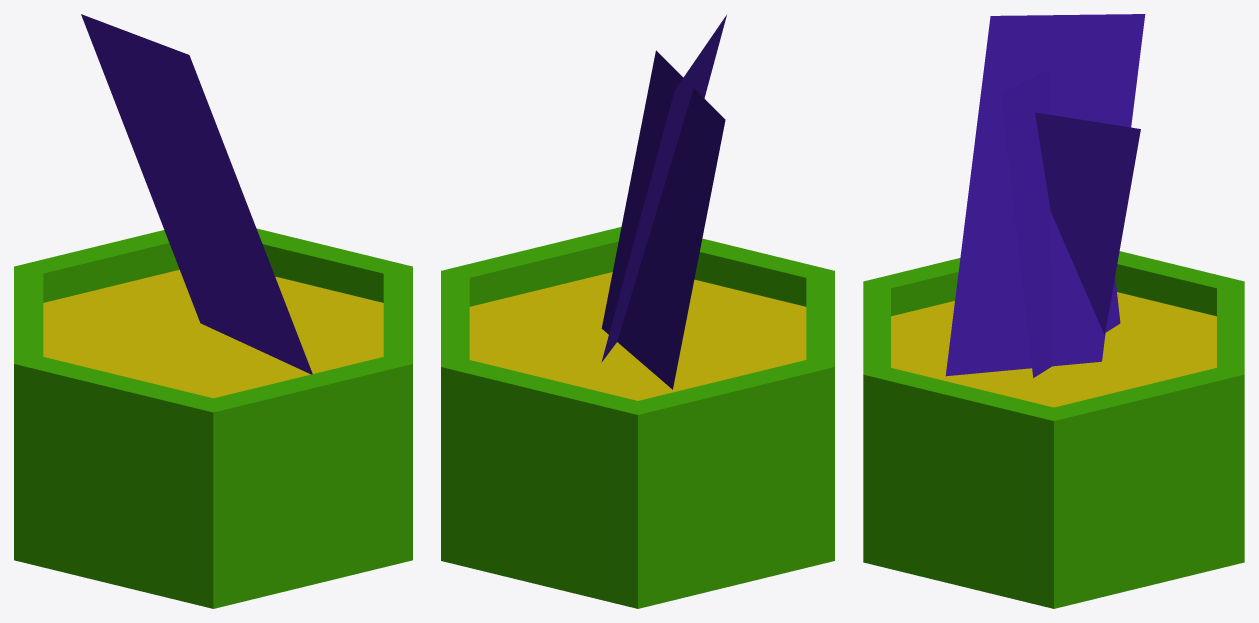
The model's file is Blumenkuebel.fbx.
The picture shows the model from 3 angles, left to right: view 1: azimuth 30°, elevation 25°; view 2: azimuth 150°, elevation 25°; view 3: azimuth 270°, elevation 25°; orthographic projection. The views are drawn at different scales.
Parts seen in each view (by area): view 1: Blumenkuebel; view 2: Blumenkuebel; view 3: Blumenkuebel.
Boxes of the visible parts, x1=… form: Blumenkuebel: x1=14, y1=14, x2=412, y2=608; Blumenkuebel: x1=441, y1=15, x2=834, y2=608; Blumenkuebel: x1=863, y1=14, x2=1244, y2=608.
Bounding box in the file's own units: 134 × 159 × 116.
